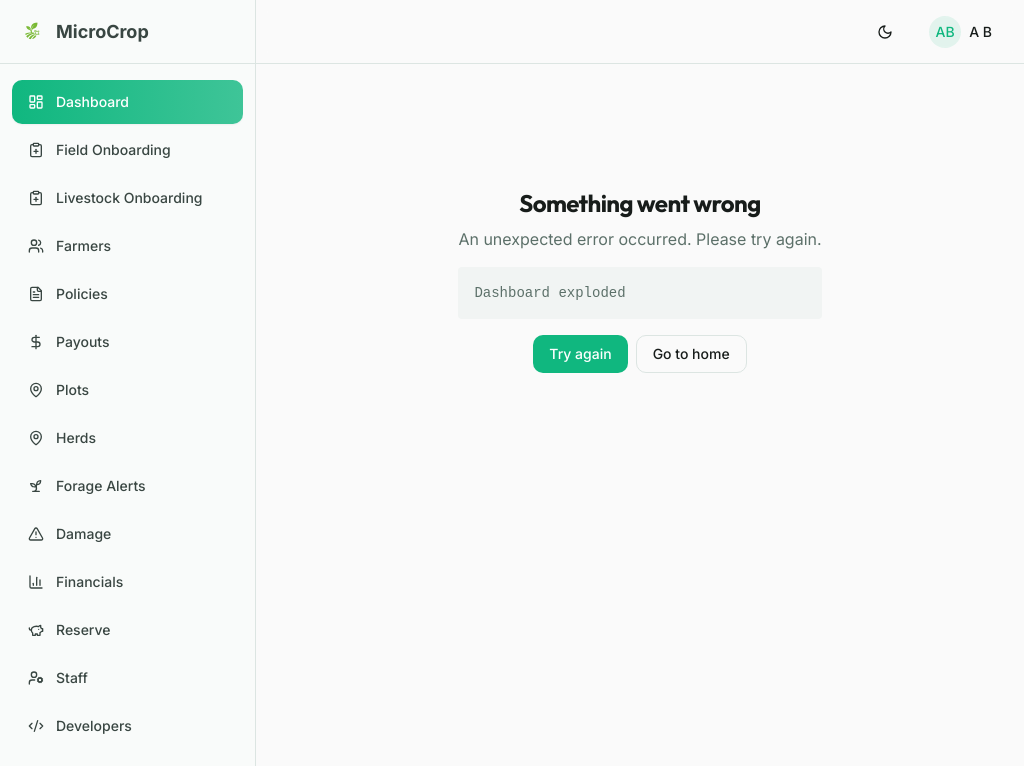
a page that throws inside the dashboard shell › keeps the sidebar mounted and clears the error after navigating
Check: the heading "Something went wrong" is shown, box [519, 188, 761, 218]
Click the link "Farmers". click: click(70, 246)
box: [28, 237, 111, 254]
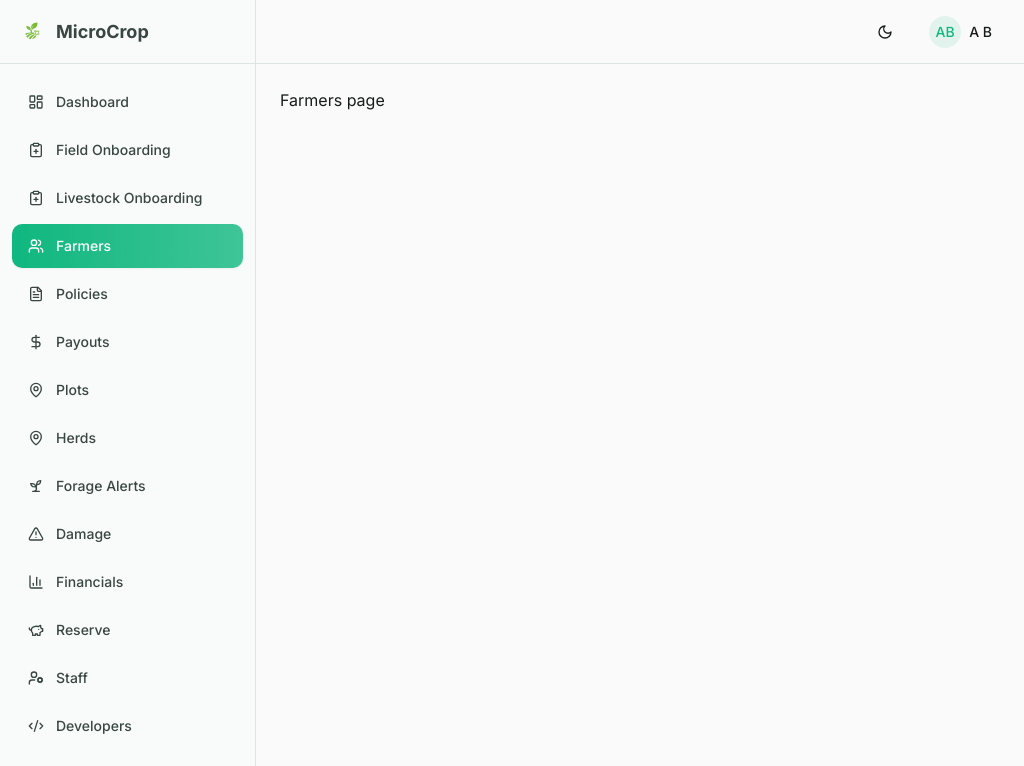
Check: the text "Farmers page" is shown, box [280, 90, 385, 110]
Check: the heading "Something went wrong" is gone
